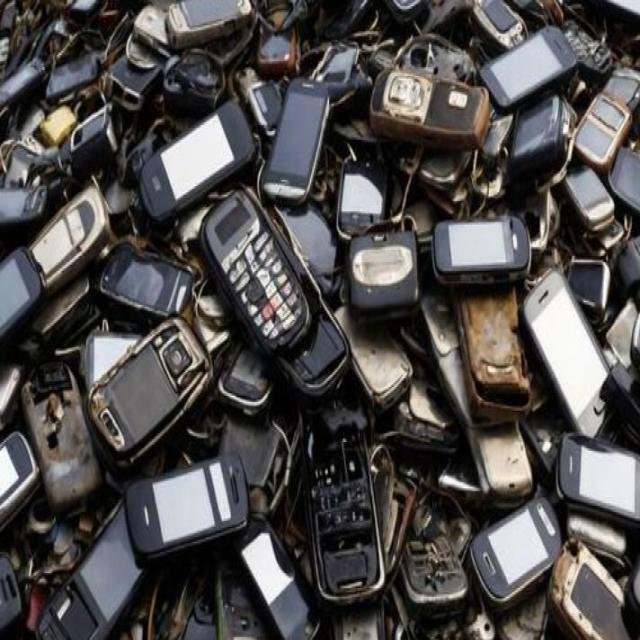electronic: (515, 255, 625, 478), (88, 449, 282, 566), (461, 455, 564, 640), (360, 59, 500, 194), (422, 189, 540, 326), (479, 11, 587, 159), (263, 53, 339, 246), (115, 118, 252, 213)
